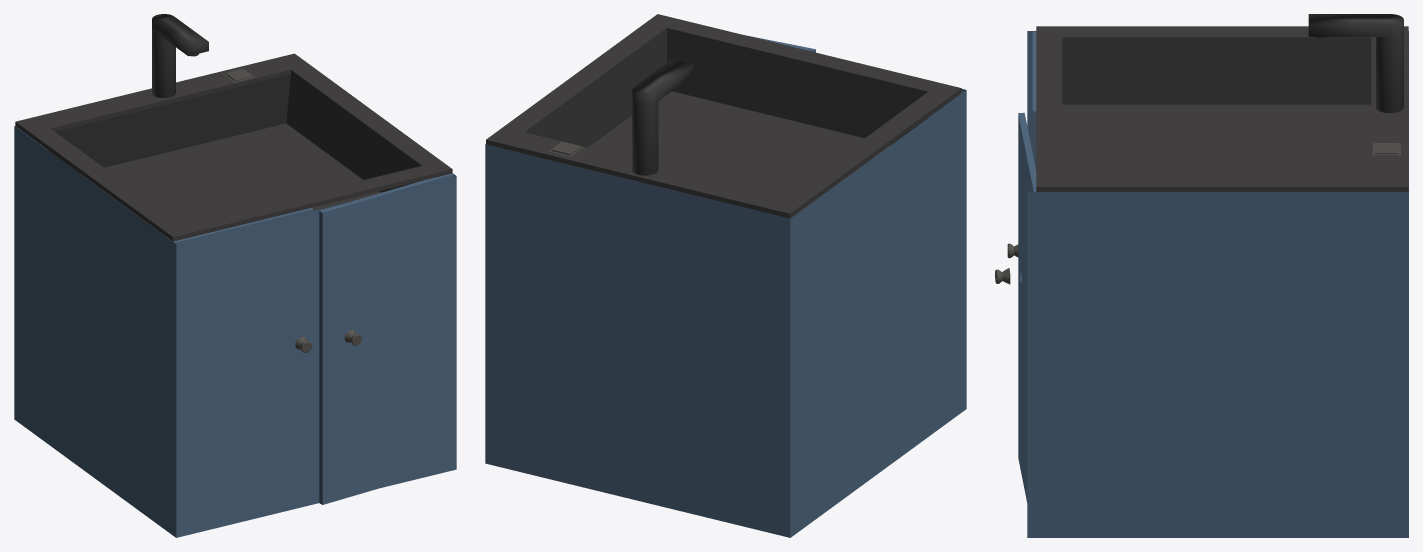
The model's file is sink.fbx.
The picture shows the model from 3 angles, left to right: view 1: azimuth 30°, elevation 25°; view 2: azimuth 150°, elevation 25°; view 3: azimuth 270°, elevation 25°; orthographic projection. The views are drawn at different scales.
Parts seen in each view (by area): view 1: Cube.005, Plane.009, DOOR.011, Cylinder.016, DOOR.010; view 2: Cube.005, Plane.009, Cylinder.016; view 3: Cube.005, Plane.009, Cylinder.016, DOOR.011, DOOR.010.
Part boxes in pixels (box(x1,y1,x2,y2)): Cube.005: box(14, 126, 456, 537); Plane.009: box(15, 53, 452, 241); DOOR.011: box(319, 173, 453, 504); Cylinder.016: box(152, 14, 208, 97); DOOR.010: box(172, 208, 313, 244); Cube.005: box(485, 89, 966, 537); Plane.009: box(486, 14, 961, 218); Cylinder.016: box(632, 59, 693, 175); Cube.005: box(1027, 31, 1408, 537); Plane.009: box(1036, 26, 1408, 191); Cylinder.016: box(1308, 14, 1403, 112); DOOR.011: box(1018, 112, 1036, 502); DOOR.010: box(1032, 31, 1036, 170).
Size of the model in its own units: 2717 by 3442 by 2947.
